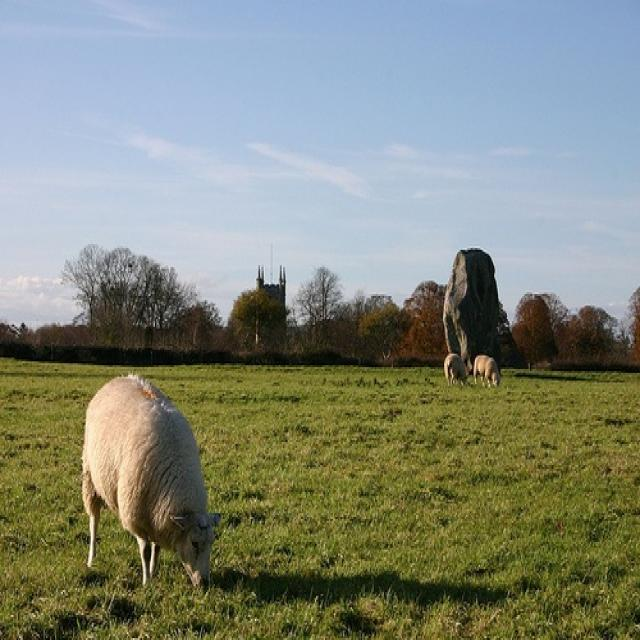sheep: (82, 371, 210, 590), (472, 350, 503, 390), (444, 352, 470, 386)
